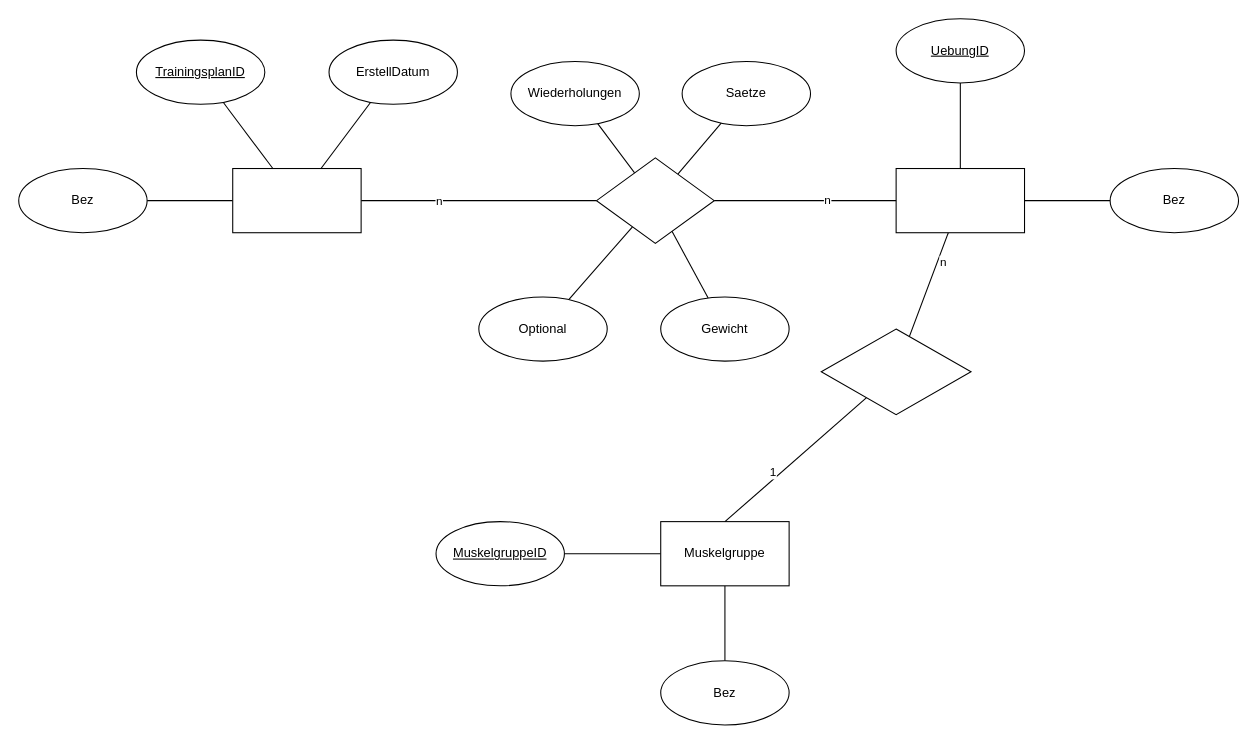
The diagram is 1257 pixels wide and 744 high, and some of its shapes have lost their labels. The shapes that lost their labels are listed below. From the top down, each one's centre as x and y in pixels, then its label:
point (296, 200): Trainingsplan
point (654, 200): enthält
point (960, 200): Uebung
point (895, 371): beansprucht
